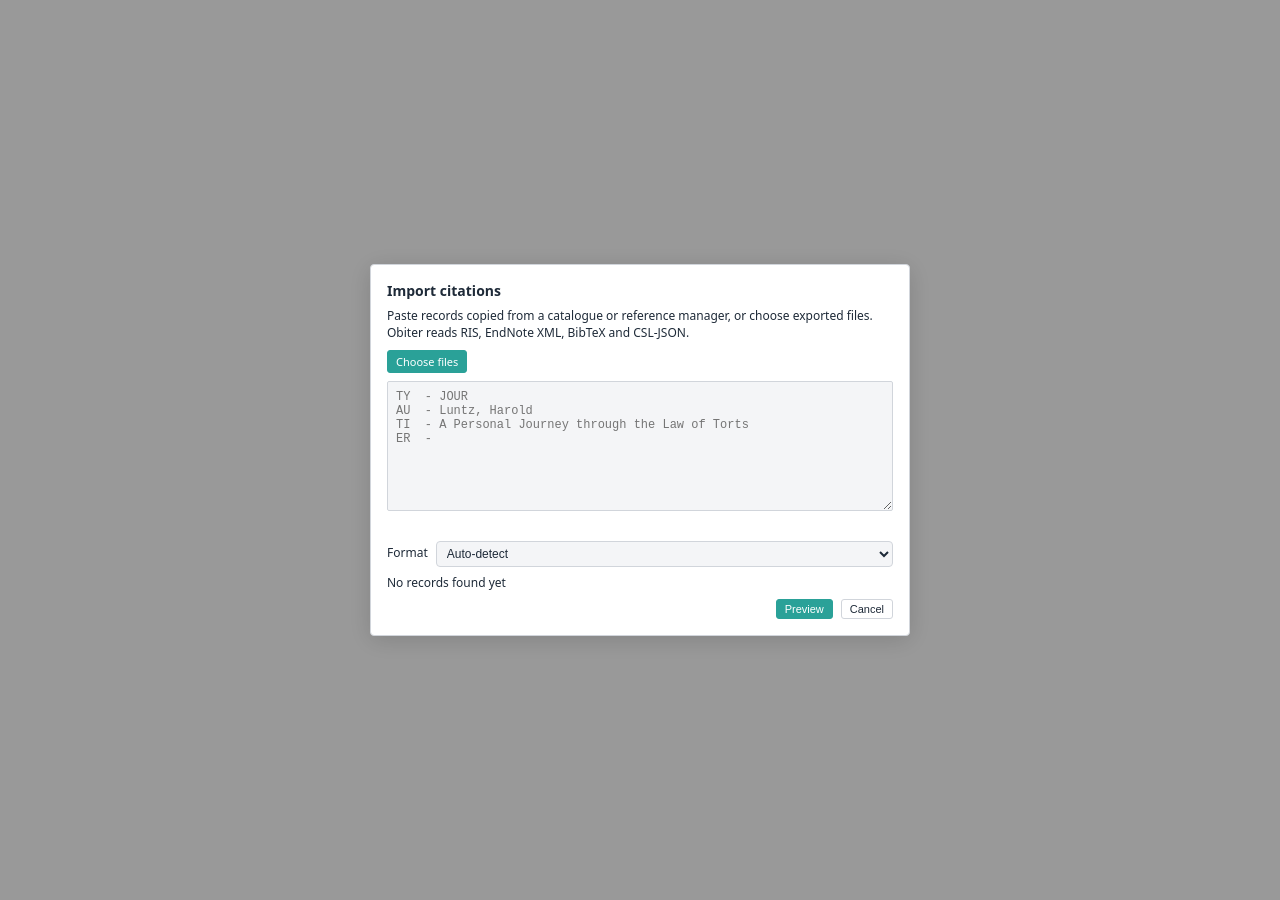
Test: ImportDialog: preview step › has no axe violations on either step
Replace the text in the text box named "Pasted records" with "TY  - JOUR AU  - Luntz, Harold TI  - A Personal Journey through the Law of Torts JO  - Sydney Law Review VL  - 27 SP  - 393 PY  - 2005 ER  - TY  - BOOK TI  - Untitled Fragment ER  - ": point(640, 446) [387,381,893,511]
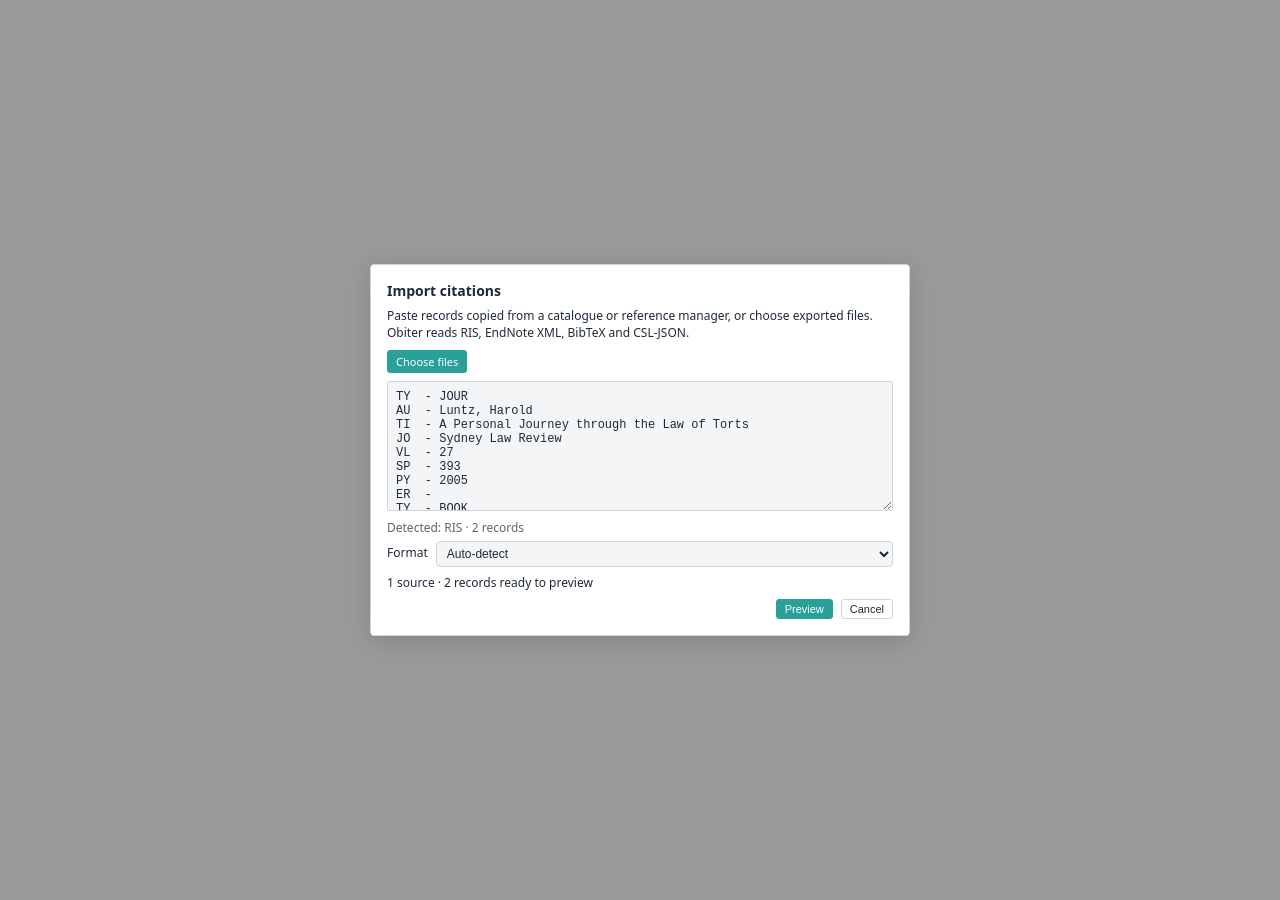
Click the button "Preview": point(804, 609) [776,599,833,619]
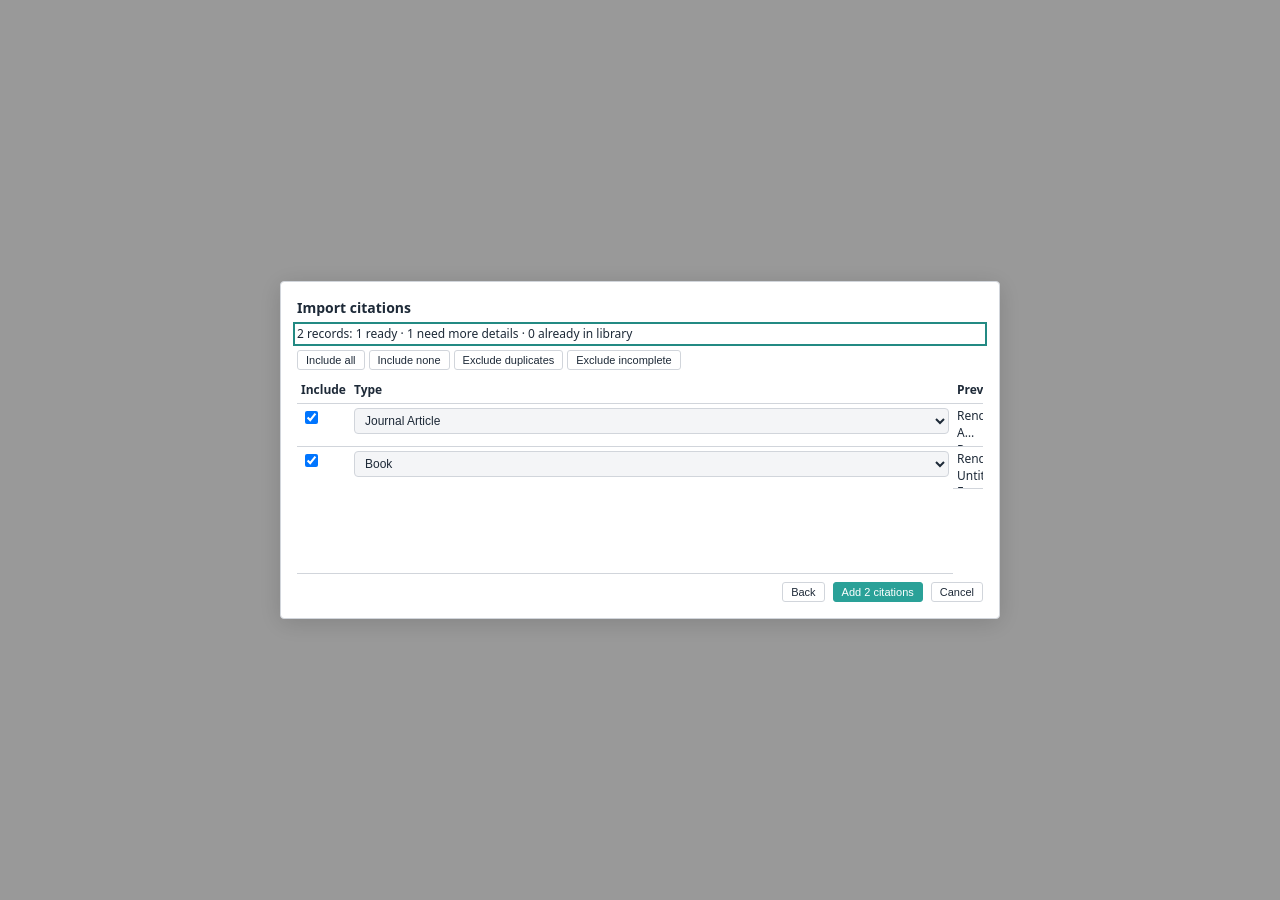
Check: the table named "Records to import" is shown, box [297,378,983,574]
